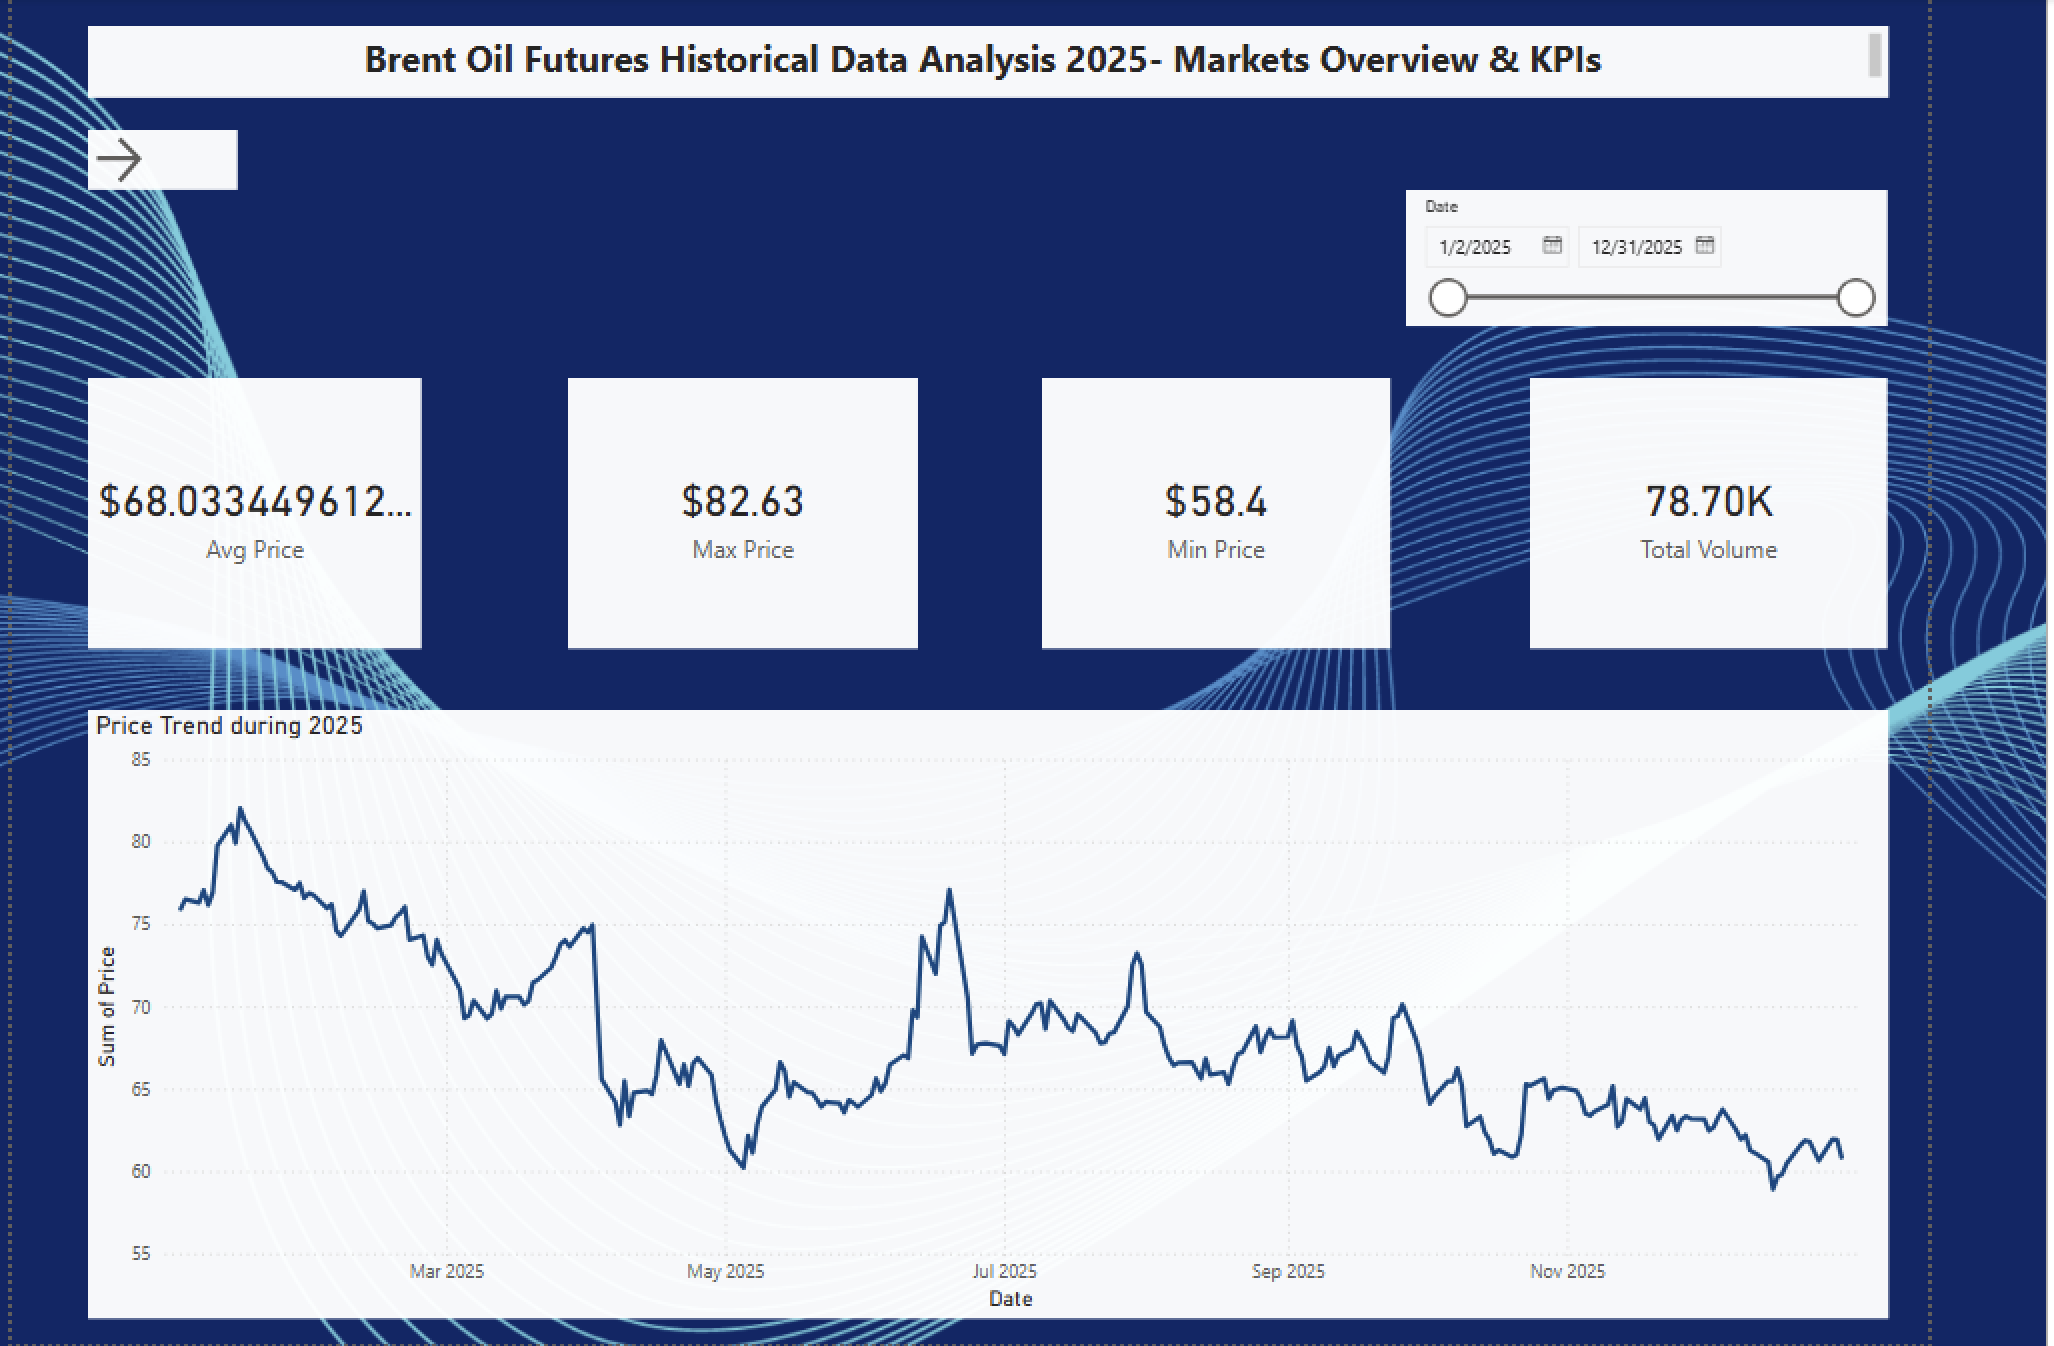

This screenshot's page, from the dashboard's own definition file:
{"tool":"powerbi","page":{"name":"Market Overview","canvas":[1280,900],"ordinal":0},"visuals":[{"type":"card","fields":{"Values":["Brent Oil Futures Historical Data Daily 2025.Avg Price"]},"box":[50.8,254.1,223.3,180.5],"z":0},{"type":"card","fields":{"Values":["Brent Oil Futures Historical Data Daily 2025.Min Price"]},"box":[688.7,254.1,232.7,180.5],"z":1000},{"type":"card","fields":{"Values":["Brent Oil Futures Historical Data Daily 2025.Total Volume"]},"box":[1015,254.1,239.4,180.5],"z":2000},{"type":"card","fields":{"Values":["Brent Oil Futures Historical Data Daily 2025.Max Price"]},"box":[371.8,254.1,234,180.5],"z":3000},{"type":"lineChart","title":"Price Trend during 2025","fields":{"Category":["Brent Oil Futures Historical Data Daily 2025.Date"],"Y":["Sum(Brent Oil Futures Historical Data Daily 2025.Price)"]},"box":[50.8,476.1,1203.6,406.5],"z":4000},{"type":"slicer","fields":{"Values":["Brent Oil Futures Historical Data Daily 2025.Date"]},"box":[932.1,128.4,322.3,90.9],"z":4001},{"type":"textbox","box":[50.8,18.7,1203.6,48.1],"z":4002},{"type":"actionButton","box":[50.8,88.3,100.3,40.1],"z":4003}]}

Visuals, with their boxes on the page's 1280x900 design canvas (x1, y1, x2, y2). These are canvas units, not pixel positions in the 2054x1346 screenshot, which may show the page scaled, cropped or inside an application window:
card - Brent Oil Futures Historical Data Daily 2025.Avg Price: l=51, t=254, r=274, b=435
card - Brent Oil Futures Historical Data Daily 2025.Min Price: l=689, t=254, r=921, b=435
card - Brent Oil Futures Historical Data Daily 2025.Total Volume: l=1015, t=254, r=1254, b=435
card - Brent Oil Futures Historical Data Daily 2025.Max Price: l=372, t=254, r=606, b=435
"Price Trend during 2025" lineChart: l=51, t=476, r=1254, b=883
slicer - Brent Oil Futures Historical Data Daily 2025.Date: l=932, t=128, r=1254, b=219
textbox: l=51, t=19, r=1254, b=67
actionButton: l=51, t=88, r=151, b=128
